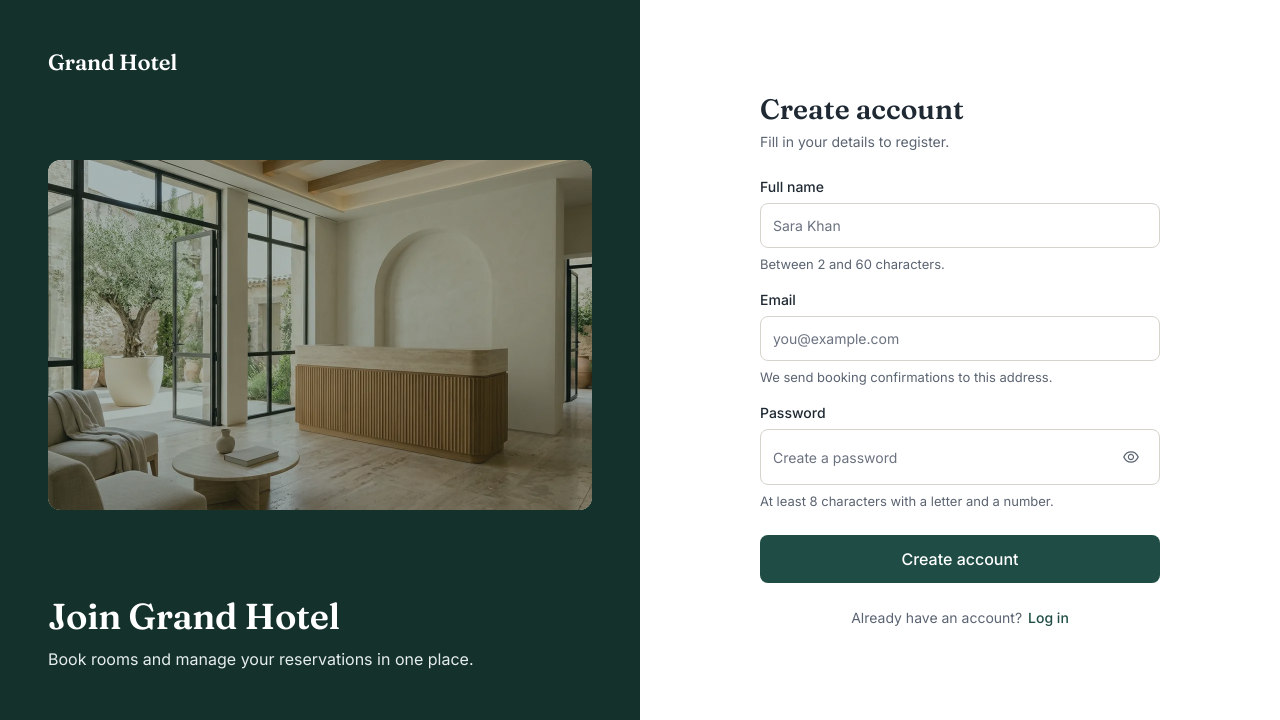
it: RegisterForm › shows validation messages for invalid name, email, and weak password
Step 1. Type "A" into the field labelled "Full name" → (960, 226), box [760,203,1160,248]
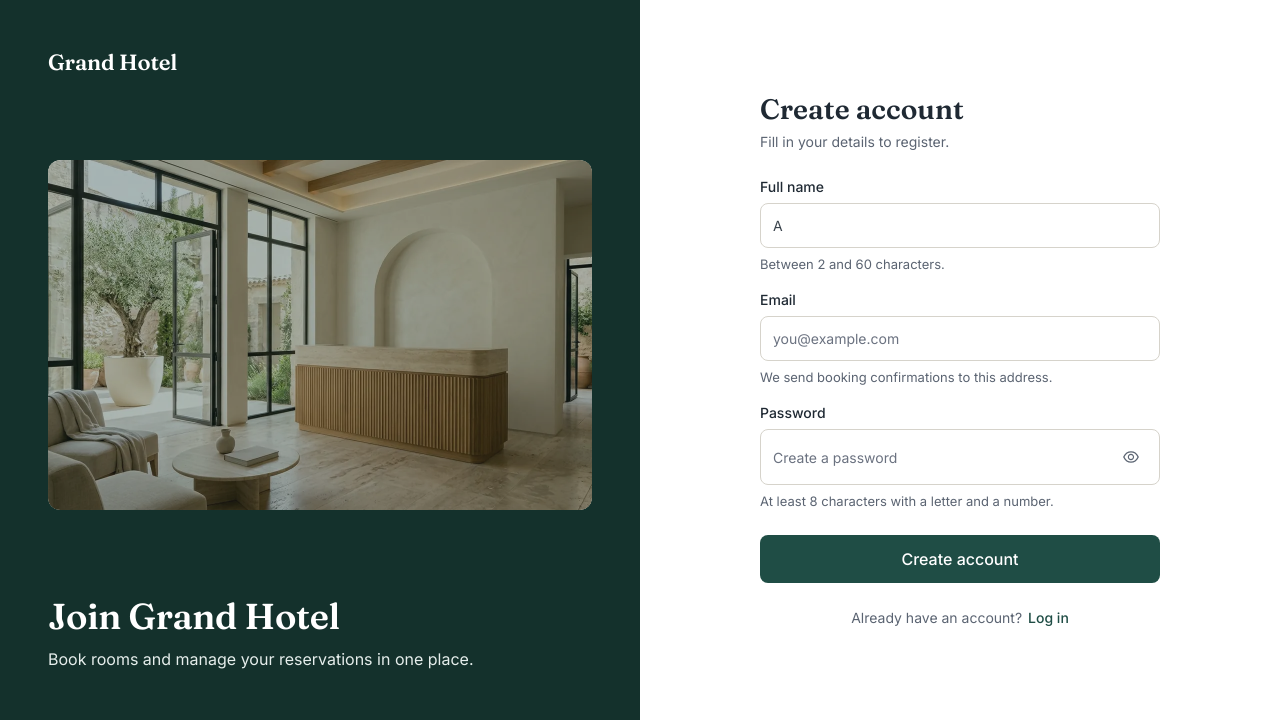
Step 2. Type "bad-email" into the field labelled "Email" → (960, 338), box [760,316,1160,361]
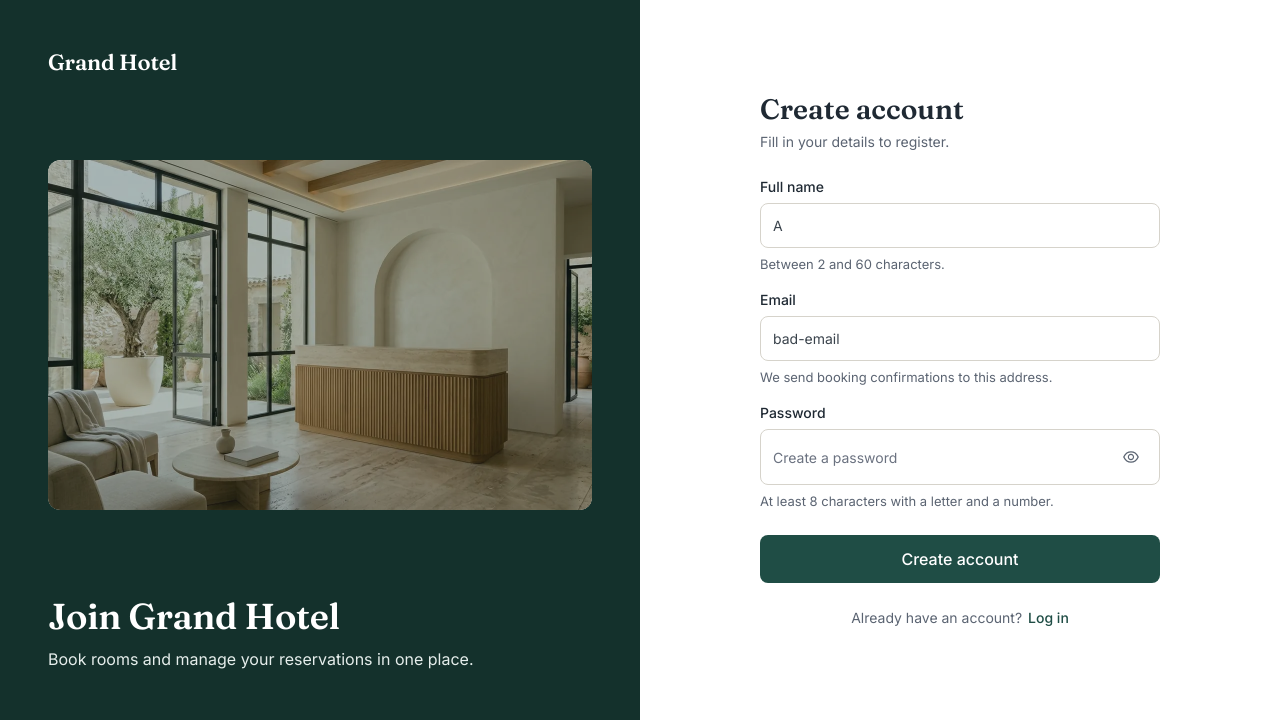
Step 3. Type "short" into the password field labelled "Password" → (942, 457), box [773,441,1111,473]
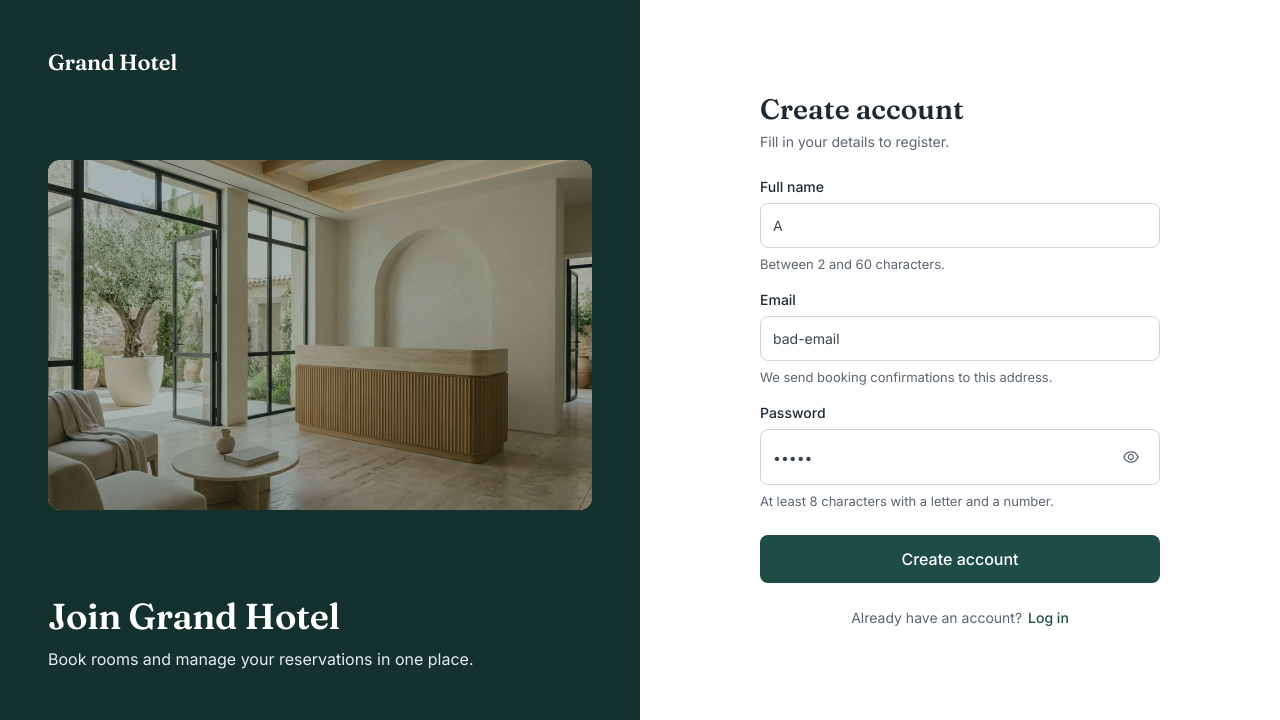
Step 4. Click the button "Create account" → (960, 559), box [760,535,1160,583]
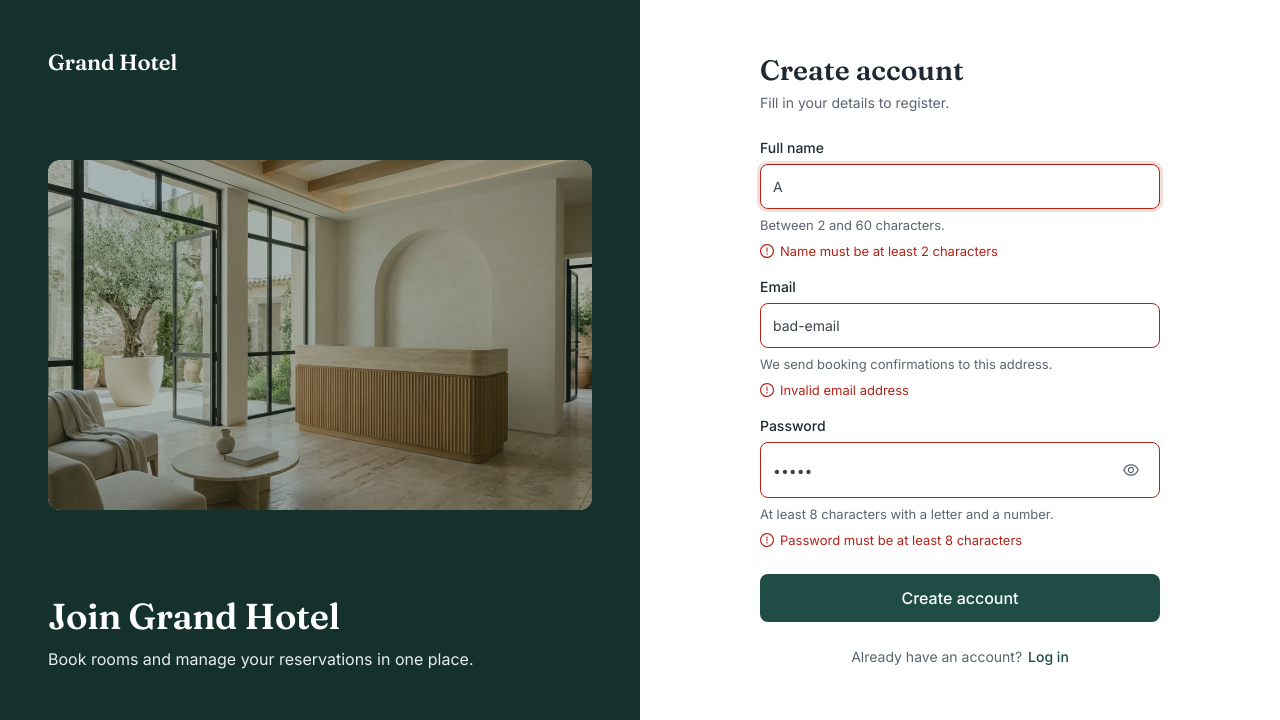
Expected: the text "Name must be at least 2 characters" is shown, [780,241,998,261]
Expected: the text "Invalid email address" is shown, [780,380,909,400]
Expected: the text "Password must be at least 8 characters" is shown, [780,530,1022,550]
